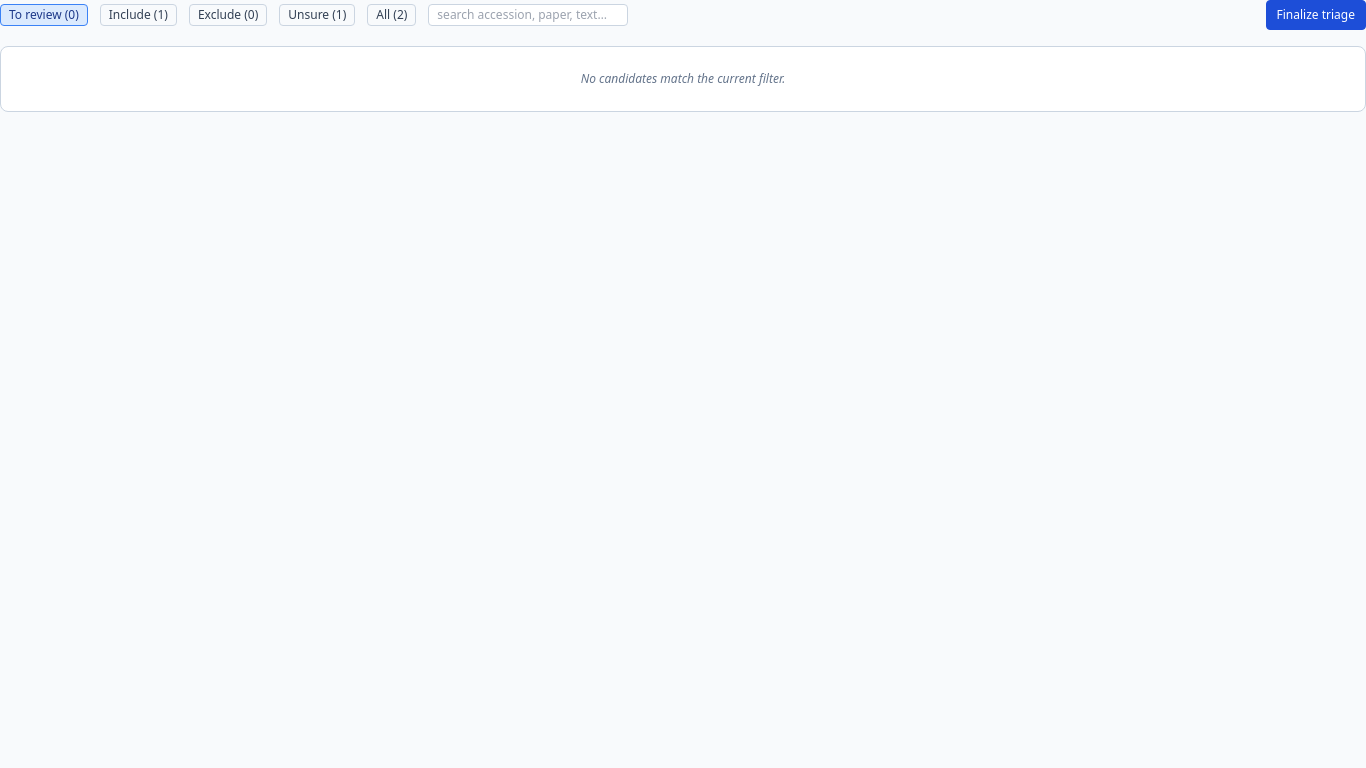
carrying unsure rows forward › names the assignee when the carry-forward was an escalation
What coordinates should you click on to do the following:
click the button "Finalize triage"
I would click on:
 (1316, 15)
Its box is [1266, 0, 1365, 30].
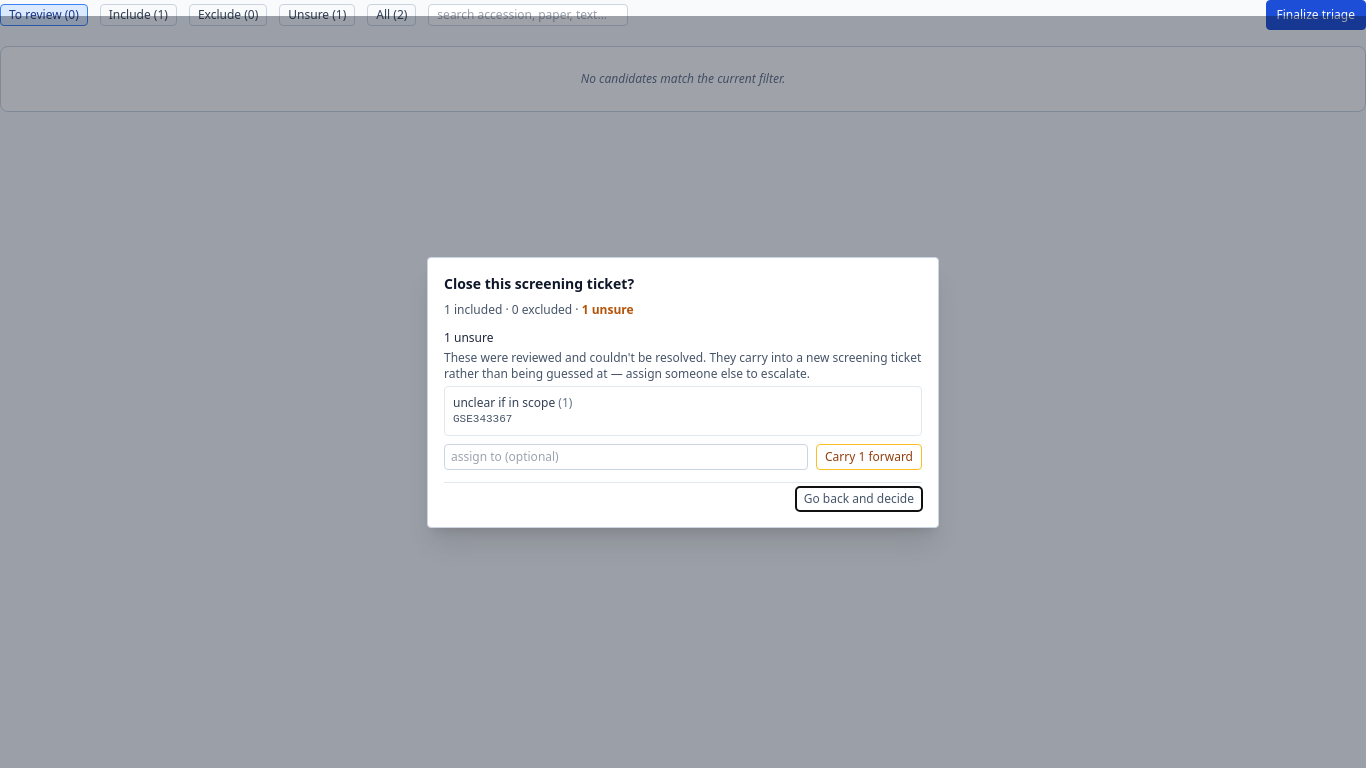
What coordinates should you click on to do the following:
click the button "Carry 1 forward"
I would click on:
 (869, 456)
Its box is [816, 444, 922, 470].
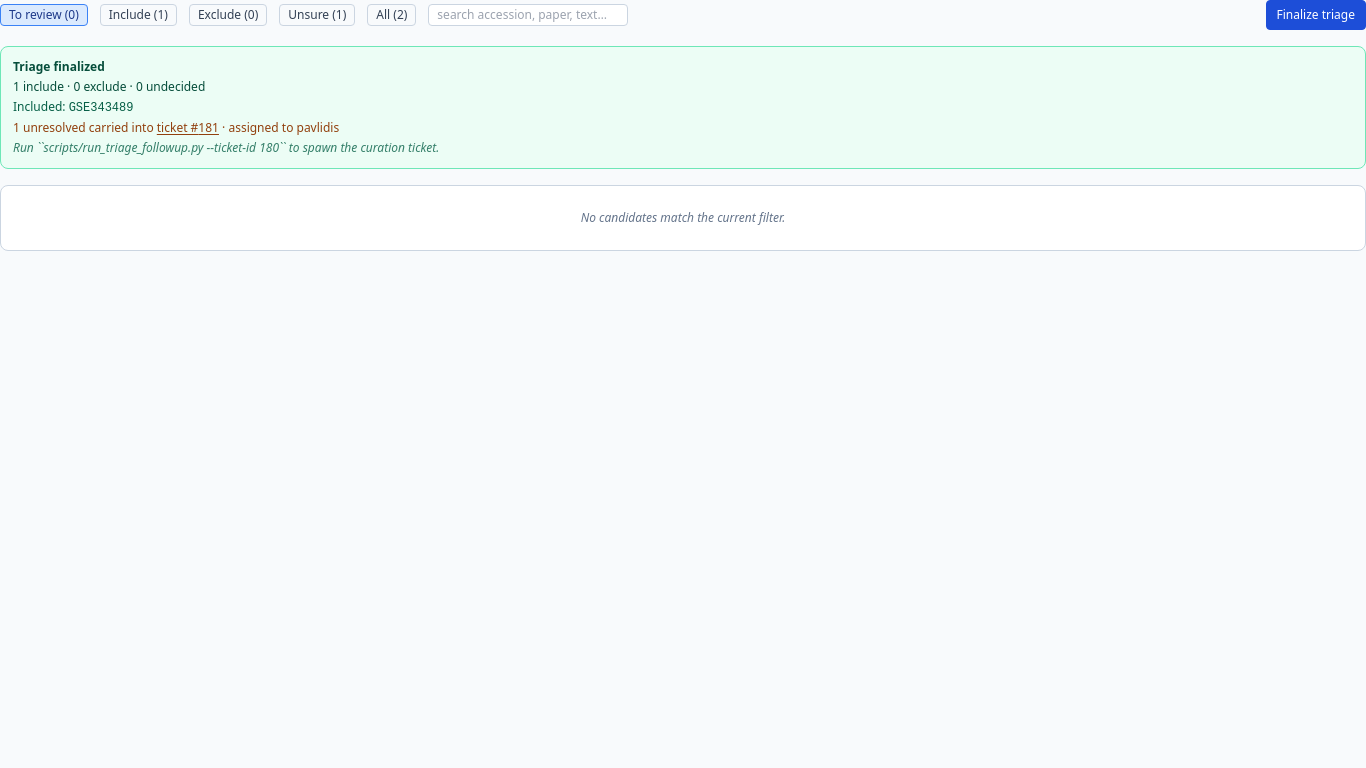
Result: the text "1 unresolved carried into ticket #181 · assigned to pavlidis" is shown at [13, 119, 339, 136]
